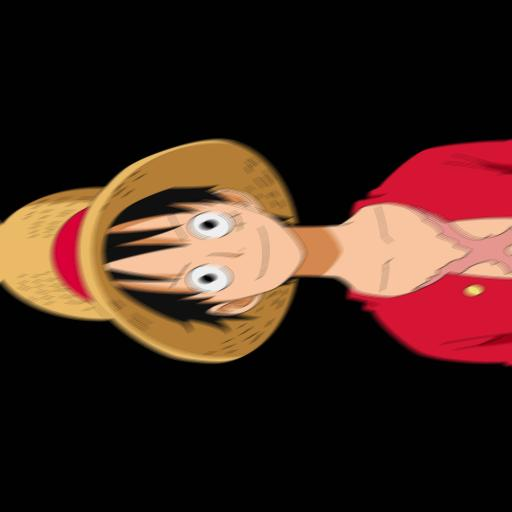Luffy: (3, 124, 512, 370)
